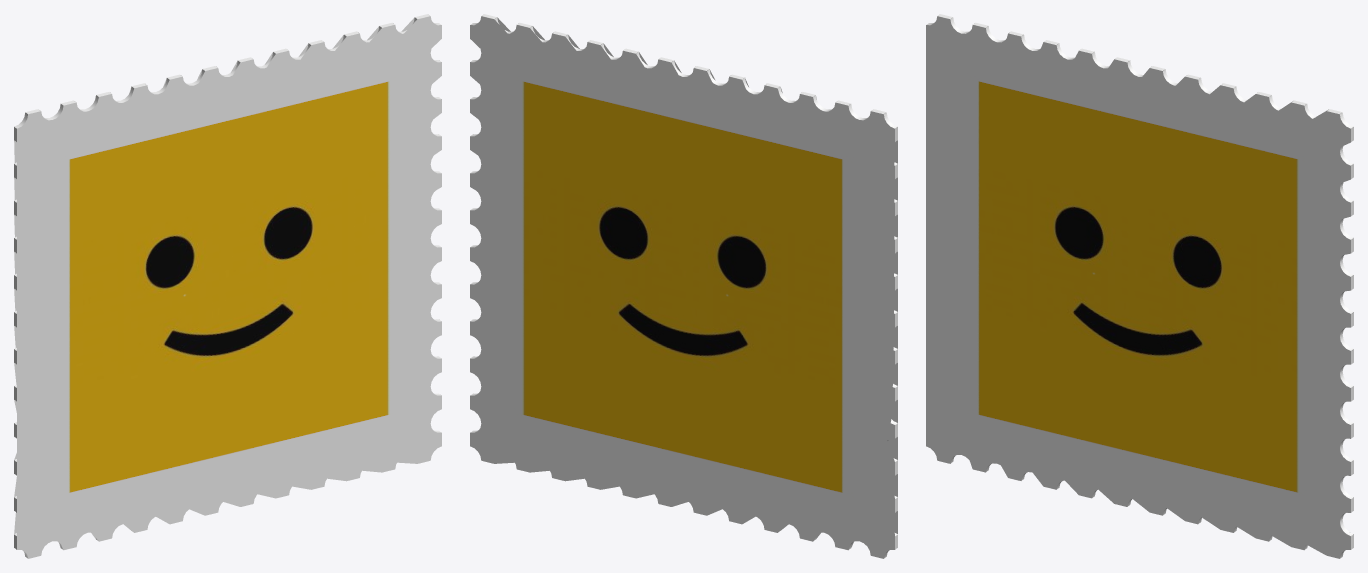
File: Stamp.fbx
3 views of the same model, side by side, from view 1: azimuth 30°, elevation 25°; view 2: azimuth 150°, elevation 25°; view 3: azimuth 330°, elevation 25° (orthographic).
Parts seen in each view (by area): view 1: pCube6; view 2: pCube6; view 3: pCube6.
Part boxes in pixels (box(x1,y1,x2,y2)): pCube6: box(14, 14, 441, 558); pCube6: box(470, 14, 897, 558); pCube6: box(926, 14, 1353, 558).
Bounding box in the file's own units: 12 × 12 × 0.1394.
